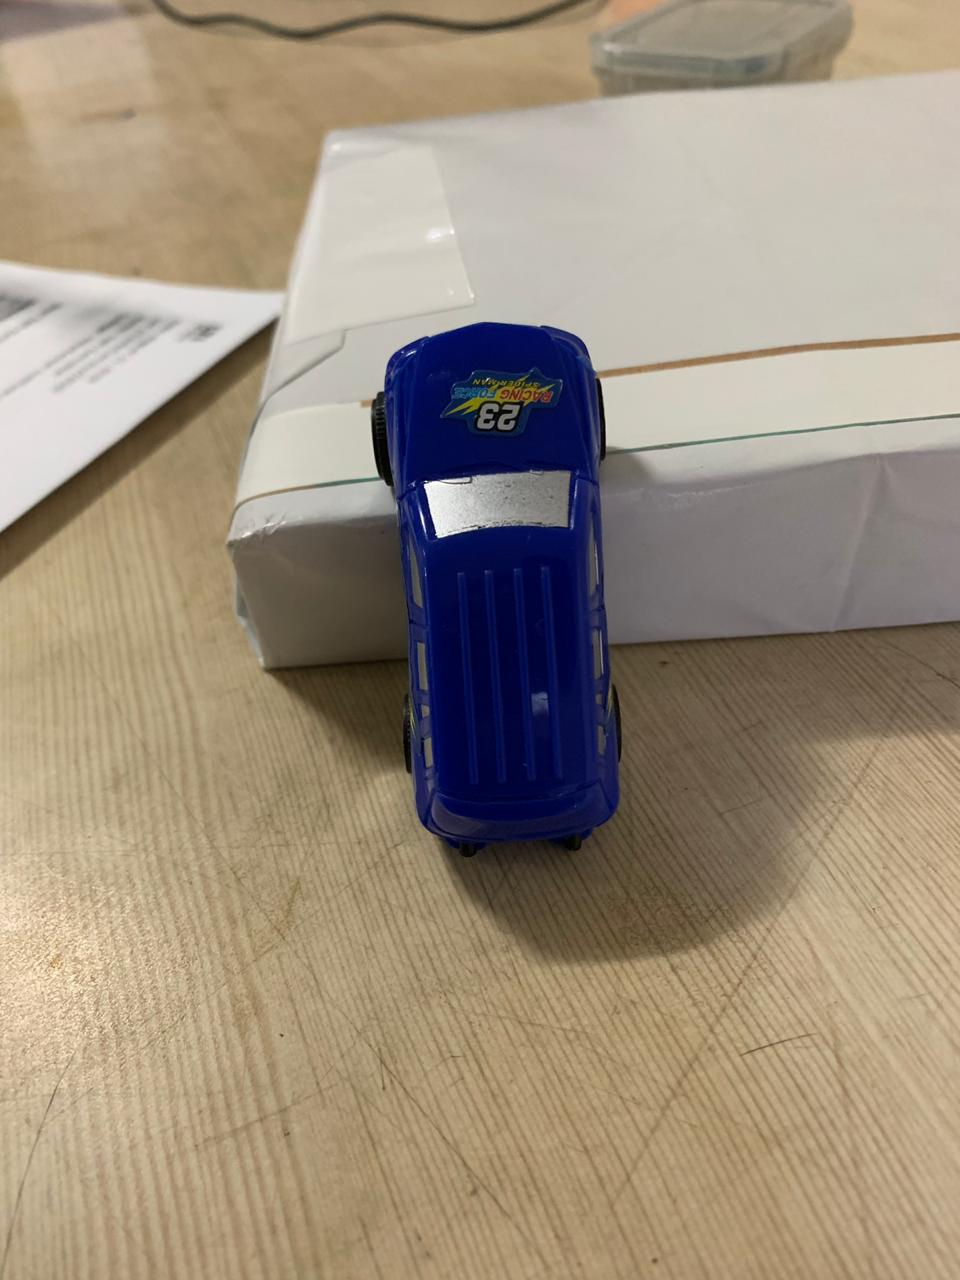car: (359, 306, 645, 878)
